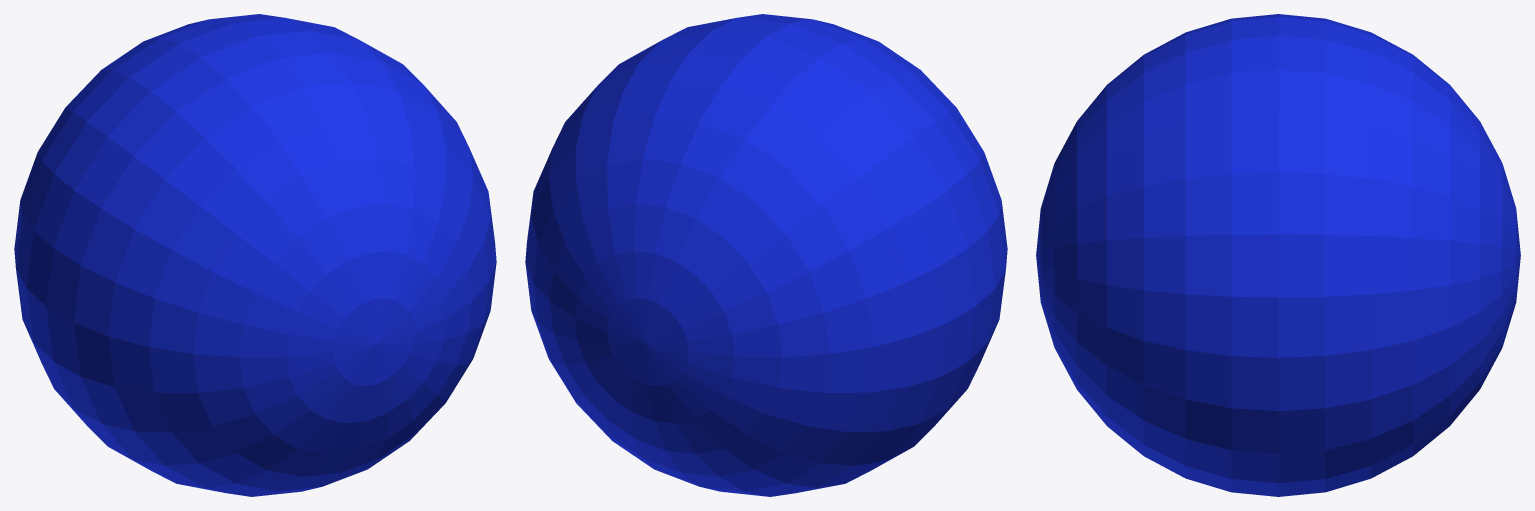
Rendered from ballbig.obj.
The picture shows the model from 3 angles, left to right: view 1: azimuth 30°, elevation 25°; view 2: azimuth 150°, elevation 25°; view 3: azimuth 270°, elevation 25°; orthographic projection.
Bounding box in the file's own units: 3 × 3 × 3.
